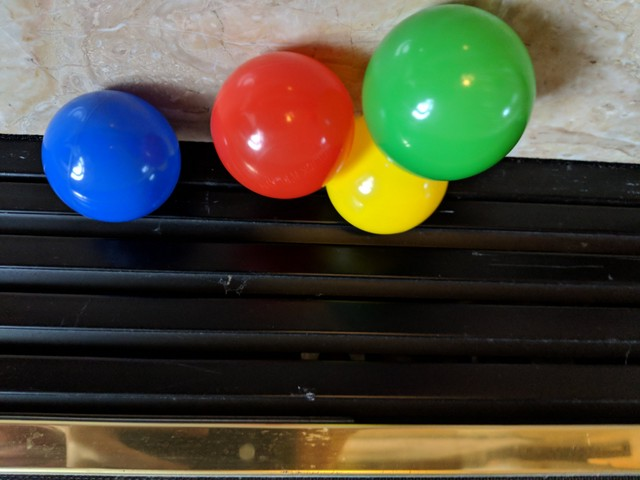ball: (211, 52, 356, 197)
